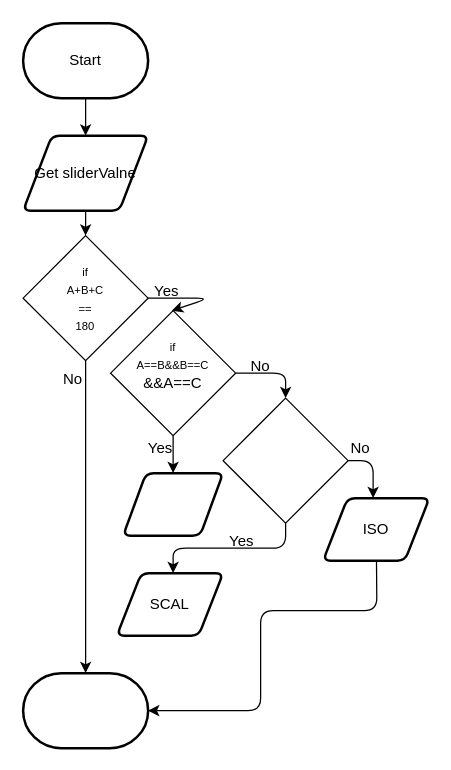
The diagram is 451 pixels wide and 770 high, and some of its shapes have lost their labels. Each missing label, with the box of its shape:
EQ: (121, 471, 224, 536)
if A==B || A==C || B==C: (222, 397, 348, 523)
Stop: (21, 671, 149, 749)
